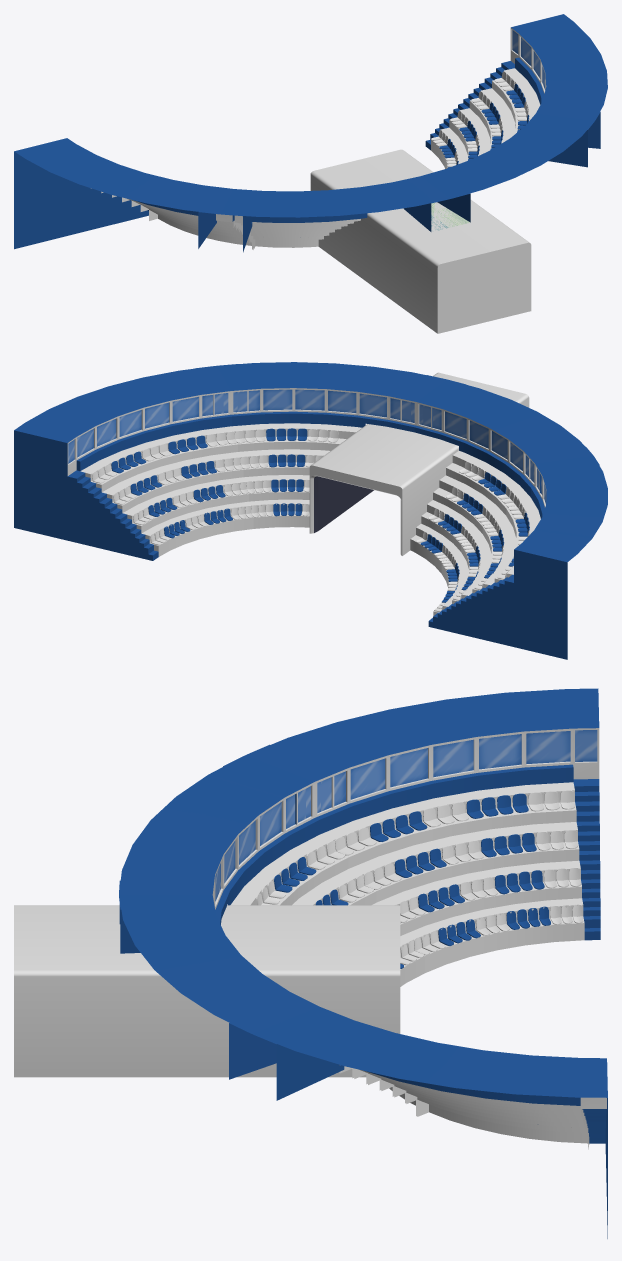
Rendered from SeatsU_Ending.fbx.
The picture shows the model from 3 angles, top to bottom: view 1: azimuth 30°, elevation 25°; view 2: azimuth 150°, elevation 25°; view 3: azimuth 270°, elevation 25°; orthographic projection. The views are drawn at different scales.
Parts seen in each view (by area): view 1: SeatsU_Ending; view 2: SeatsU_Ending; view 3: SeatsU_Ending.
Part boxes in pixels (left/top/right/bottom): SeatsU_Ending: left=14, top=14, right=607, bottom=333; SeatsU_Ending: left=14, top=362, right=607, bottom=659; SeatsU_Ending: left=14, top=688, right=607, bottom=1238.
Size of the model in its own units: 30.51 by 5.17 by 18.71.
